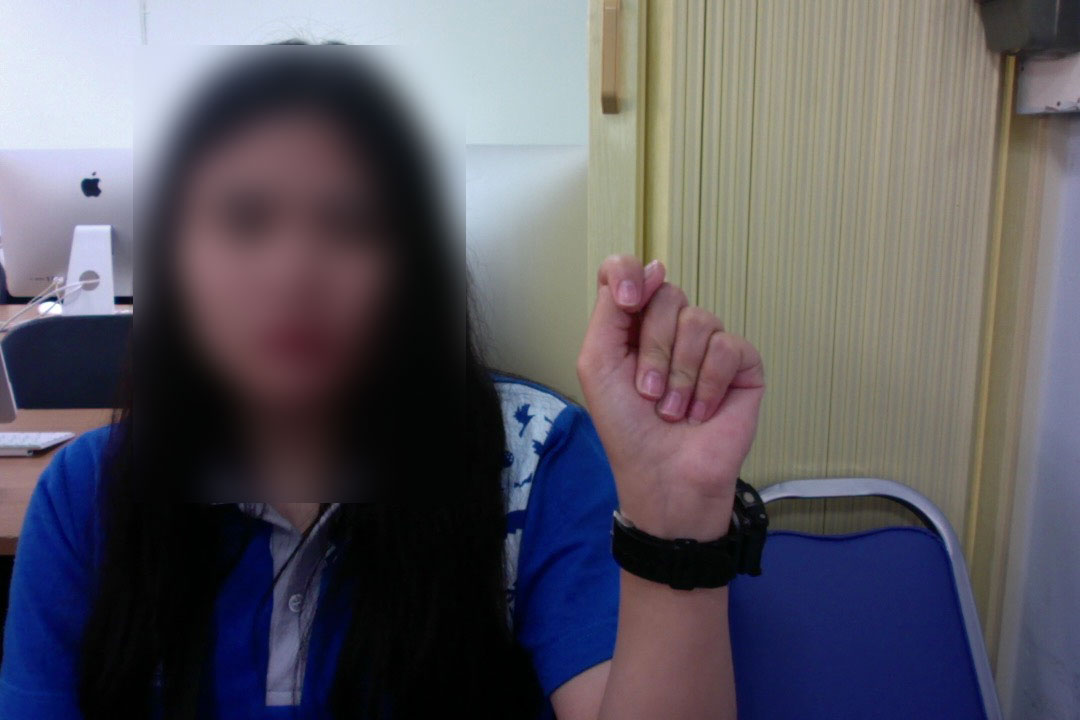tor: (568, 253, 772, 524)
